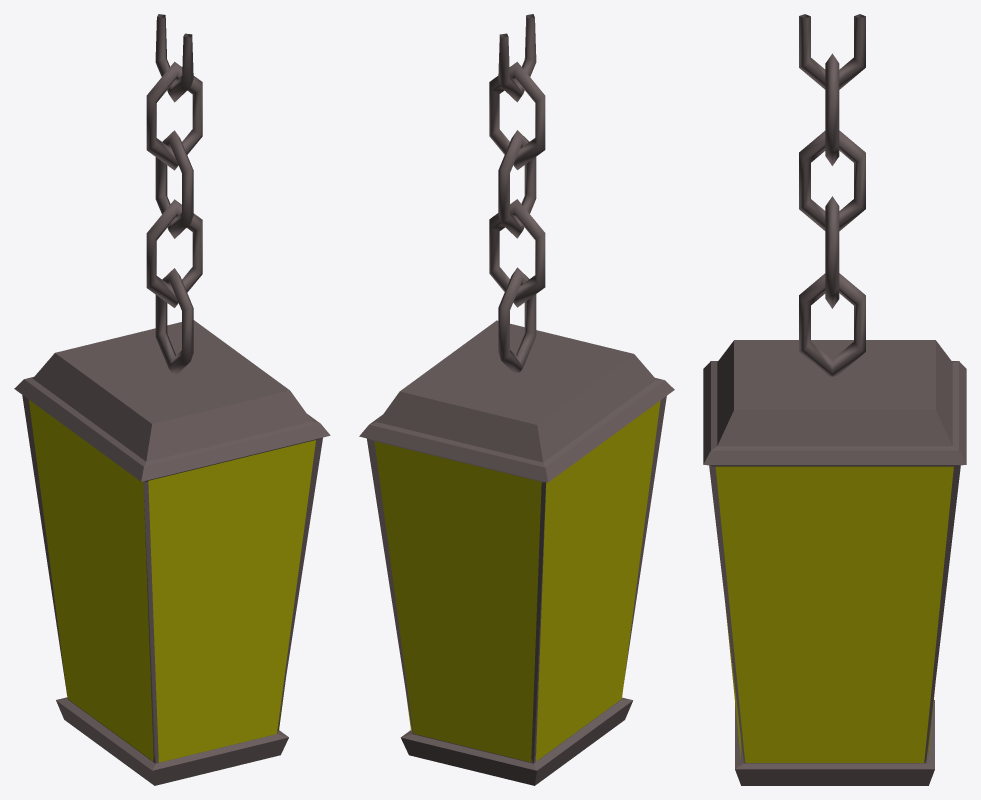
Rendered from Lanterne Murale.FBX.
The picture shows the model from 3 angles, left to right: view 1: azimuth 30°, elevation 25°; view 2: azimuth 150°, elevation 25°; view 3: azimuth 270°, elevation 25°; orthographic projection. The views are drawn at different scales.
Parts seen in each view (by area): view 1: Box021, Box010.001; view 2: Box021, Box010.001; view 3: Box021, Box010.001.
Boxes of the visible parts, <box> form: Box021: <box>29,400,315,762</box>; Box010.001: <box>14,14,330,785</box>; Box021: <box>374,400,660,762</box>; Box010.001: <box>359,14,674,785</box>; Box021: <box>715,466,953,762</box>; Box010.001: <box>703,14,966,785</box>.
Size of the model in its own units: 22.17 by 79.65 by 25.75.
